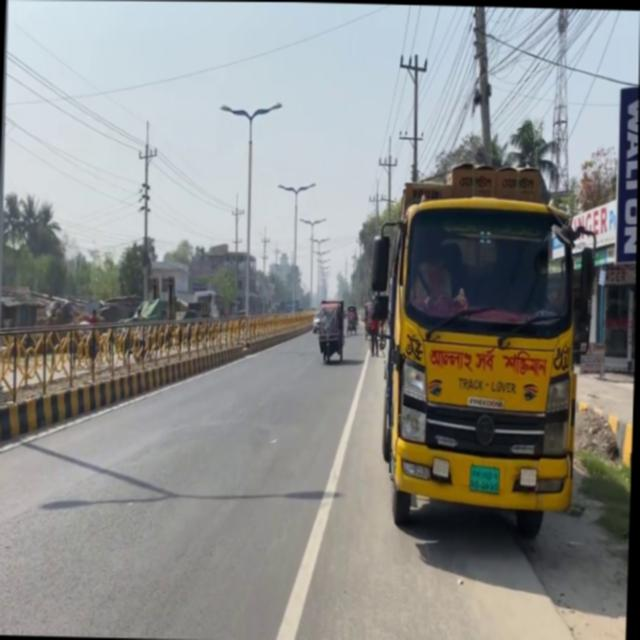Garbage-bin: (408, 250, 469, 316)
Pole: (0, 309, 230, 458)
Pothole: (573, 367, 634, 466)
Traffic-cone: (362, 157, 600, 536)
